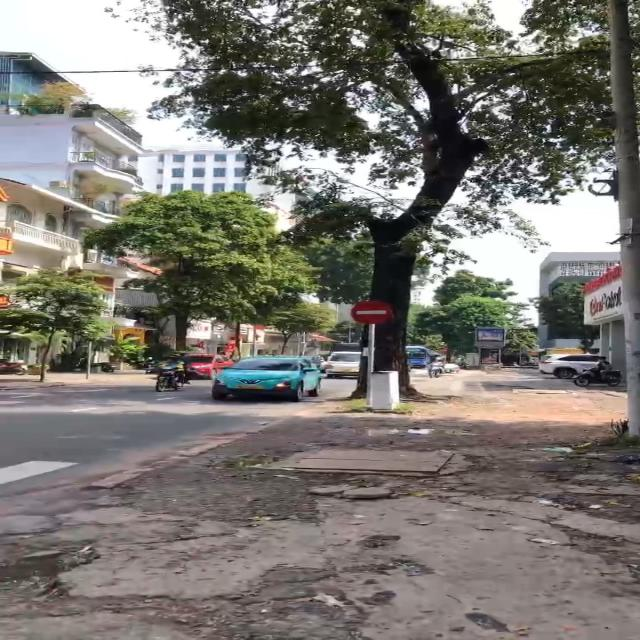Bien bao cam di nguoc chieu: (348, 298, 400, 326)
